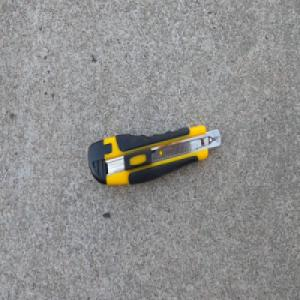Cutter: (86, 123, 223, 187)
